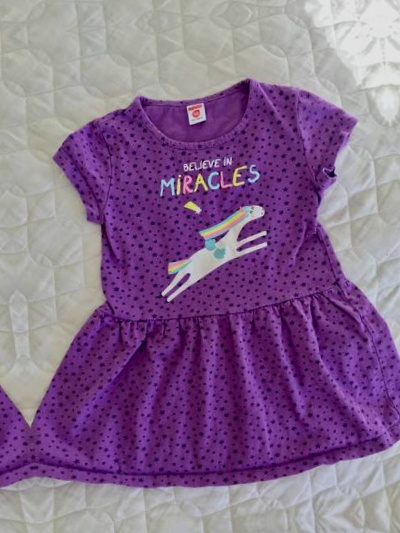Dress: (2, 72, 400, 501), (0, 111, 33, 533), (386, 35, 400, 464)
